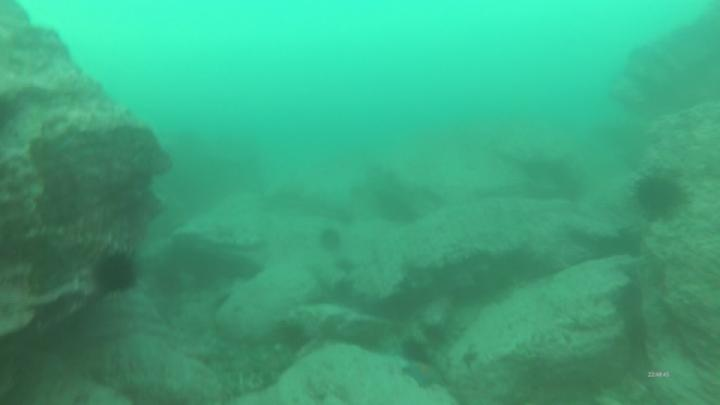echinus: (629, 172, 689, 225), (91, 249, 140, 297), (422, 319, 453, 349), (399, 336, 431, 365), (318, 226, 344, 255)
starfish: (403, 362, 450, 394)
